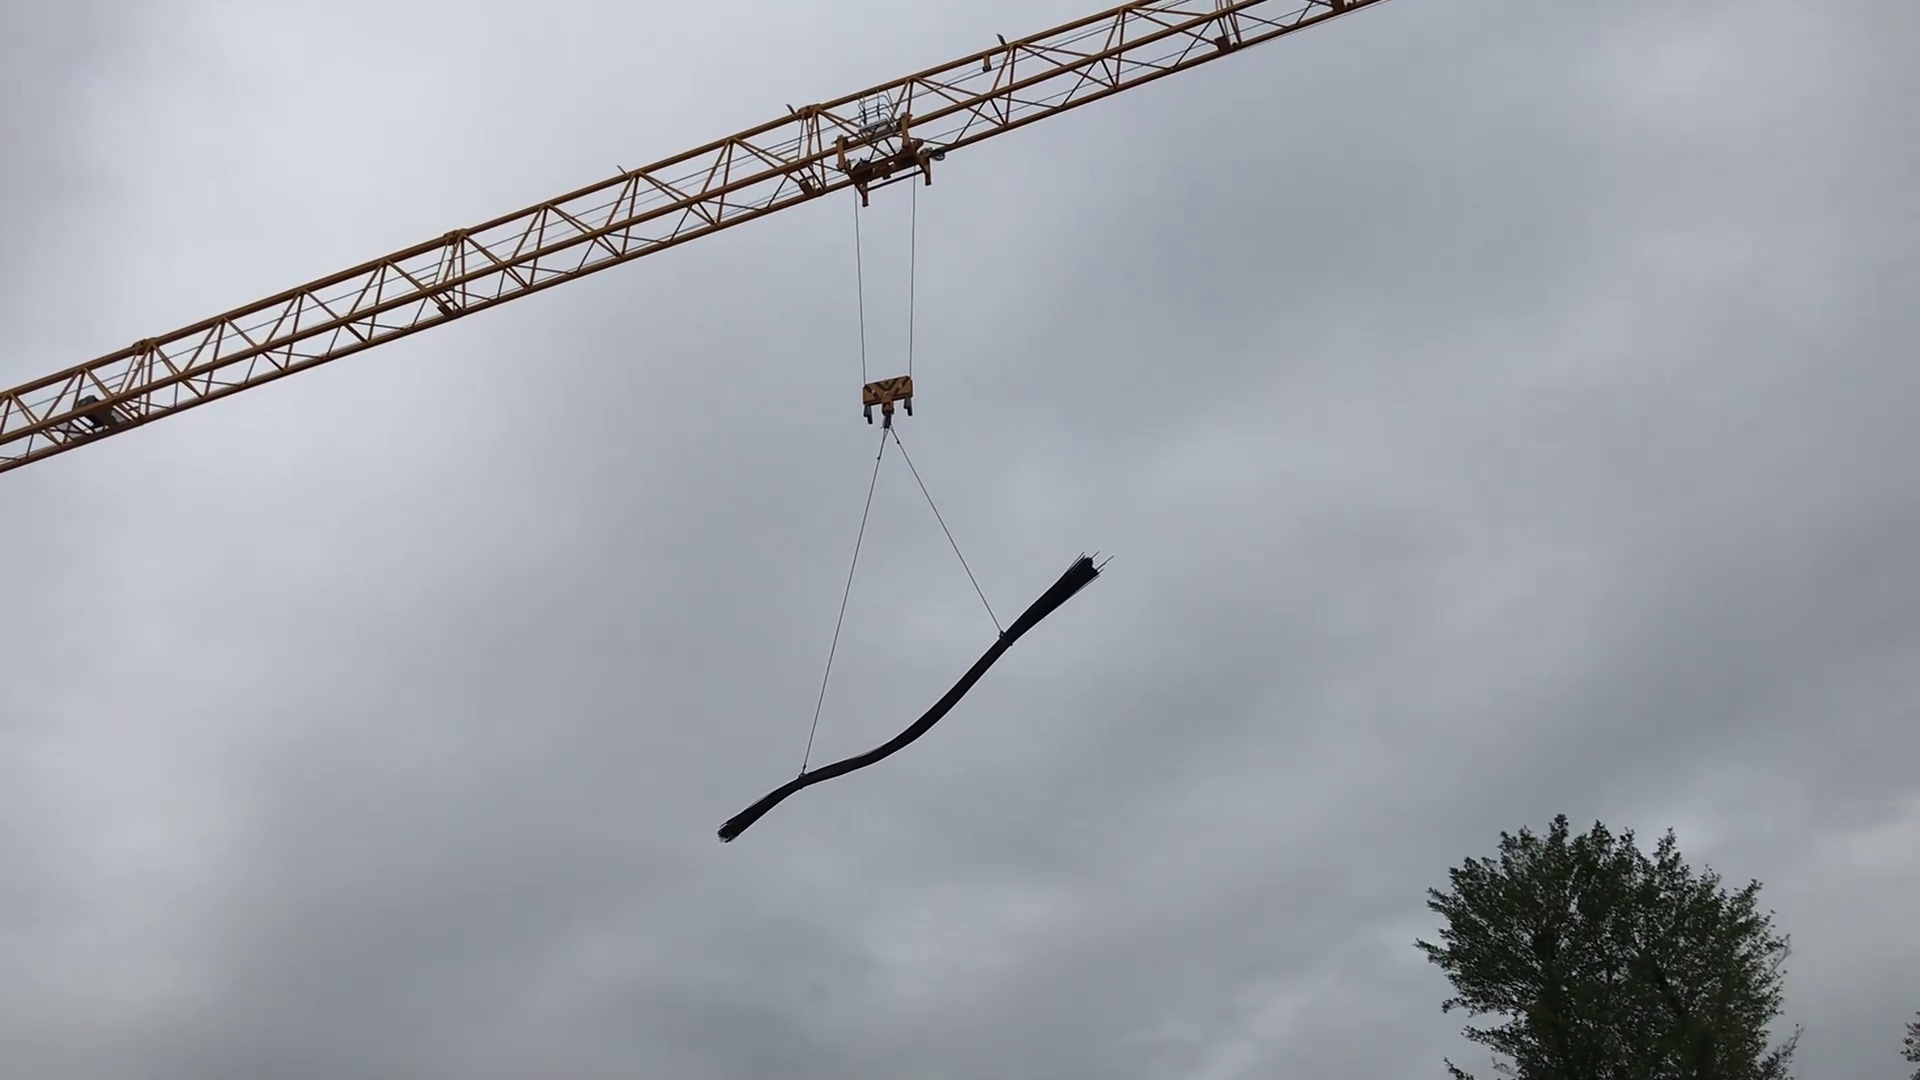hook: (847, 365, 924, 427)
rebar: (716, 546, 1116, 837)
